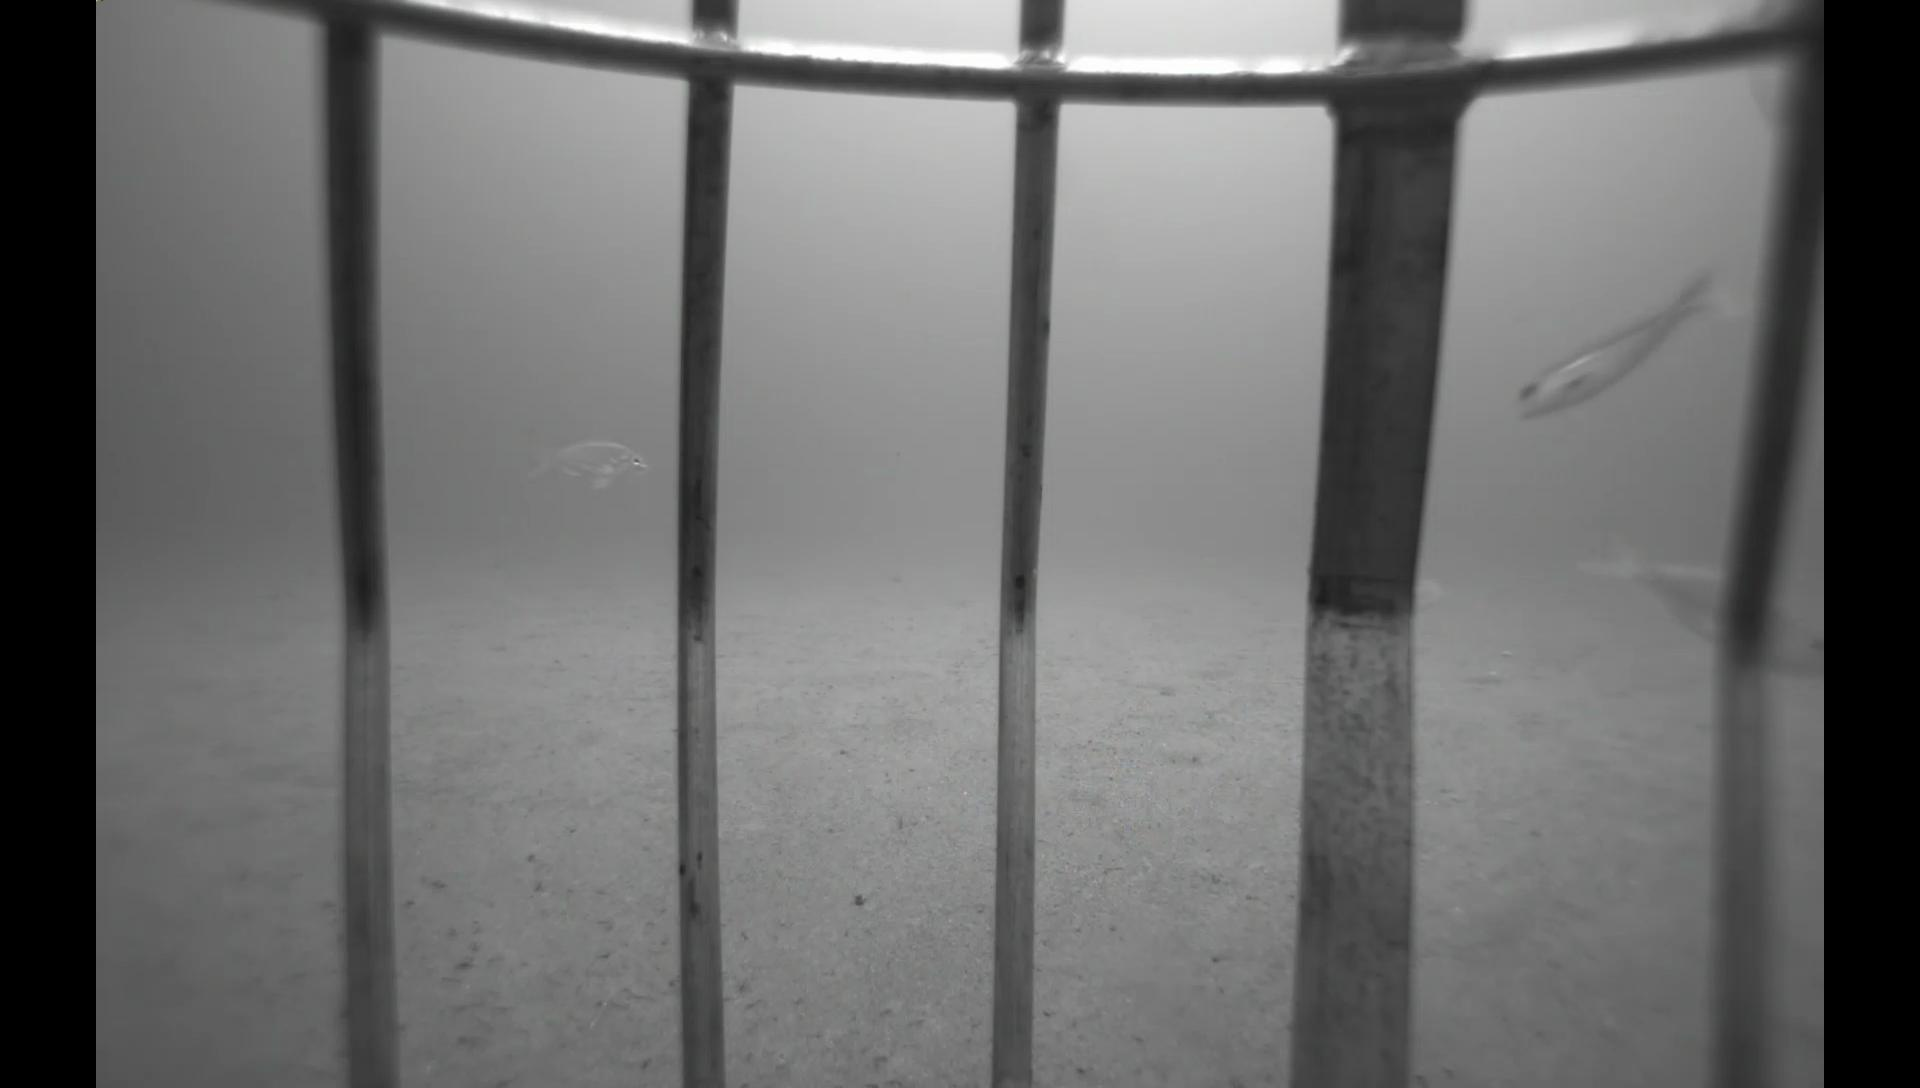CAULOLATILUSCYANOPS-170070101: (1507, 258, 1756, 440)
PAGRUSPAGRUS-170212302: (1411, 560, 1456, 619)
PRISTIPOMOIDES-170151800: (1567, 499, 1826, 692), (509, 426, 661, 504)
